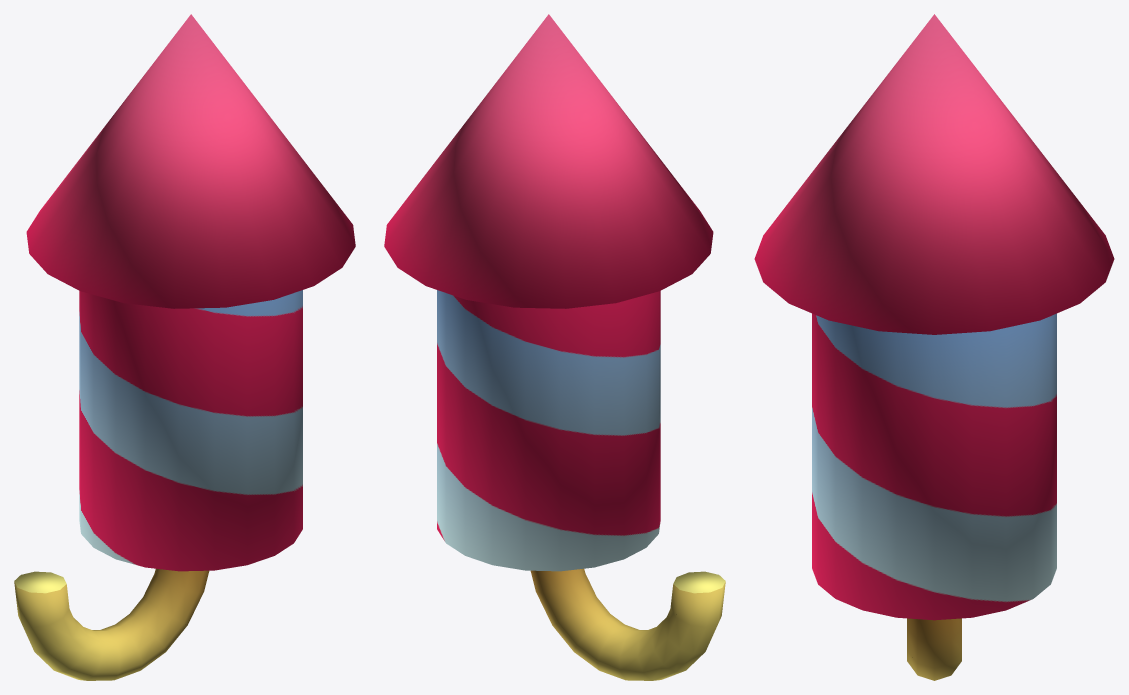
Rendered from Rocket.fbx.
3 renders of one model, left to right at view 1: azimuth 30°, elevation 25°; view 2: azimuth 150°, elevation 25°; view 3: azimuth 270°, elevation 25°, orthographic. The views are drawn at different scales.
Visible parts, largest first — view 1: Rocket; view 2: Rocket; view 3: Rocket.
Boxes of the visible parts, box(x1,y1,x2,y2) form: Rocket: box(14, 14, 355, 680); Rocket: box(384, 14, 725, 680); Rocket: box(754, 14, 1114, 680).
Bounding box in the file's own units: 200 × 388 × 181.
